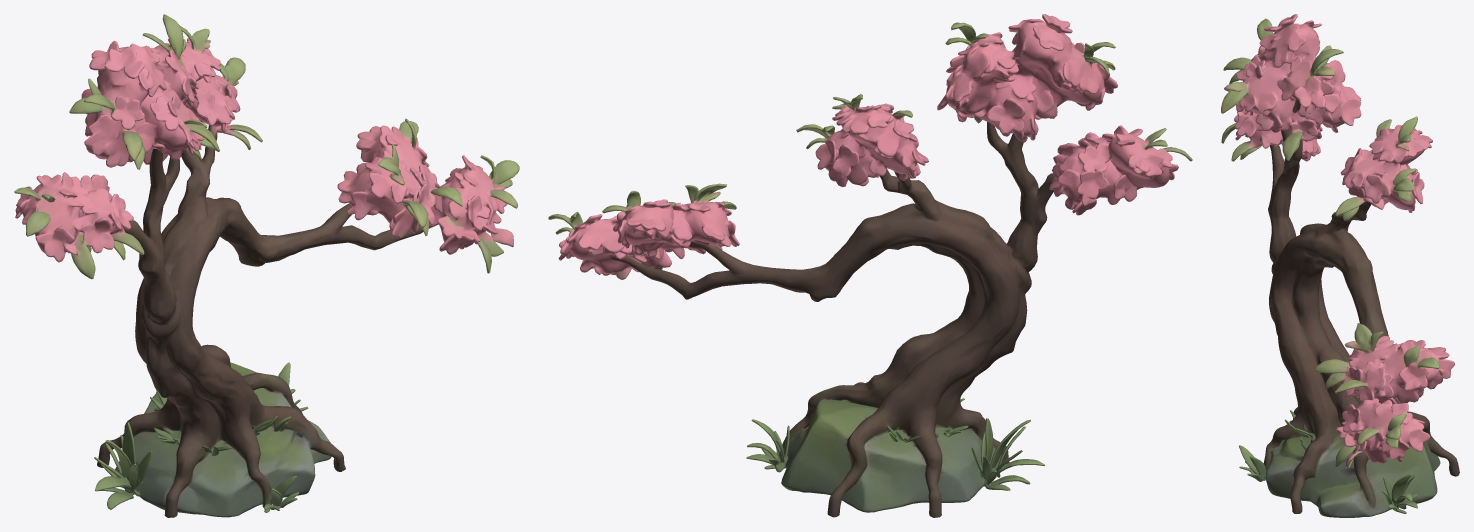
Rendered from peach_l.glb.
3 renders of one model, left to right at view 1: azimuth 30°, elevation 25°; view 2: azimuth 150°, elevation 25°; view 3: azimuth 270°, elevation 25°, orthographic. The views are drawn at different scales.
Parts seen in each view (by area): view 1: tripo_node_a6c17d98-5fd9-4e9f-9a5f-4bb198230e28; view 2: tripo_node_a6c17d98-5fd9-4e9f-9a5f-4bb198230e28; view 3: tripo_node_a6c17d98-5fd9-4e9f-9a5f-4bb198230e28.
Part boxes in pixels (x1,y1,x2,y2): tripo_node_a6c17d98-5fd9-4e9f-9a5f-4bb198230e28: (14, 14, 519, 517); tripo_node_a6c17d98-5fd9-4e9f-9a5f-4bb198230e28: (548, 14, 1192, 517); tripo_node_a6c17d98-5fd9-4e9f-9a5f-4bb198230e28: (1221, 14, 1459, 517).
Bounding box in the file's own units: 1 × 0.7942 × 0.4206.
Materials: 1 (1 with a texture image).
